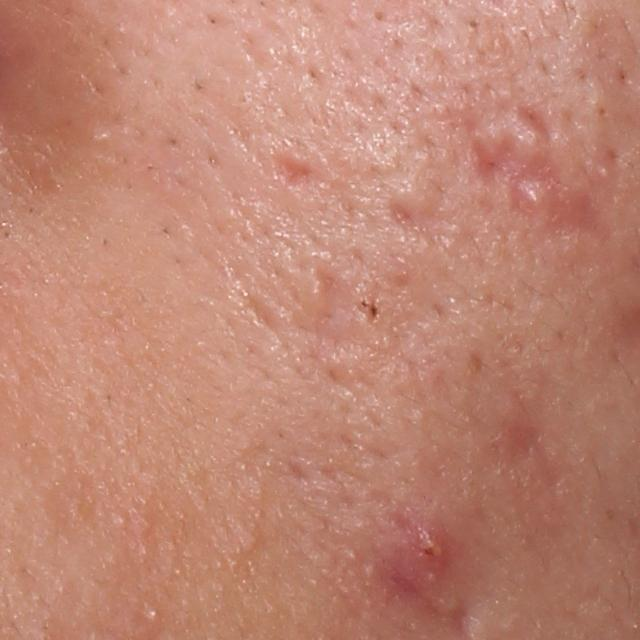atrophic_scar: (503, 154, 619, 249), (472, 131, 529, 198), (515, 103, 560, 151), (269, 156, 314, 189), (236, 292, 273, 330), (384, 202, 420, 233)
comedo: (238, 526, 268, 556), (145, 595, 167, 626)
papule: (396, 520, 463, 577)
